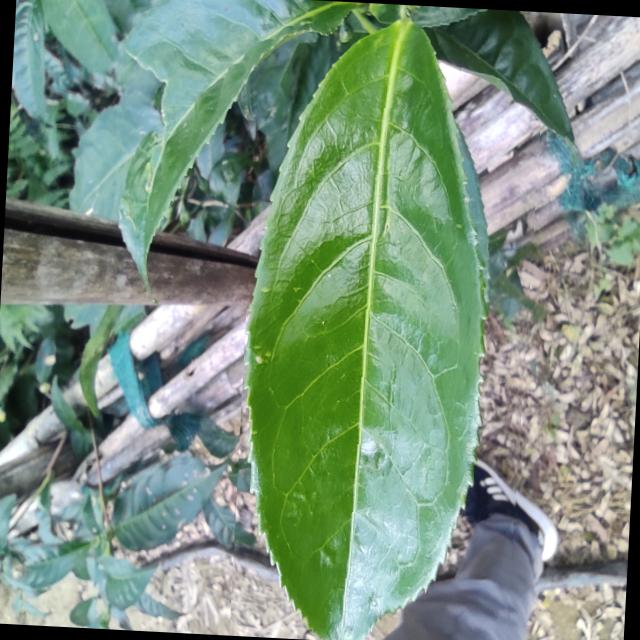Category D(7+ days, Not for Tea): (229, 0, 548, 640)
